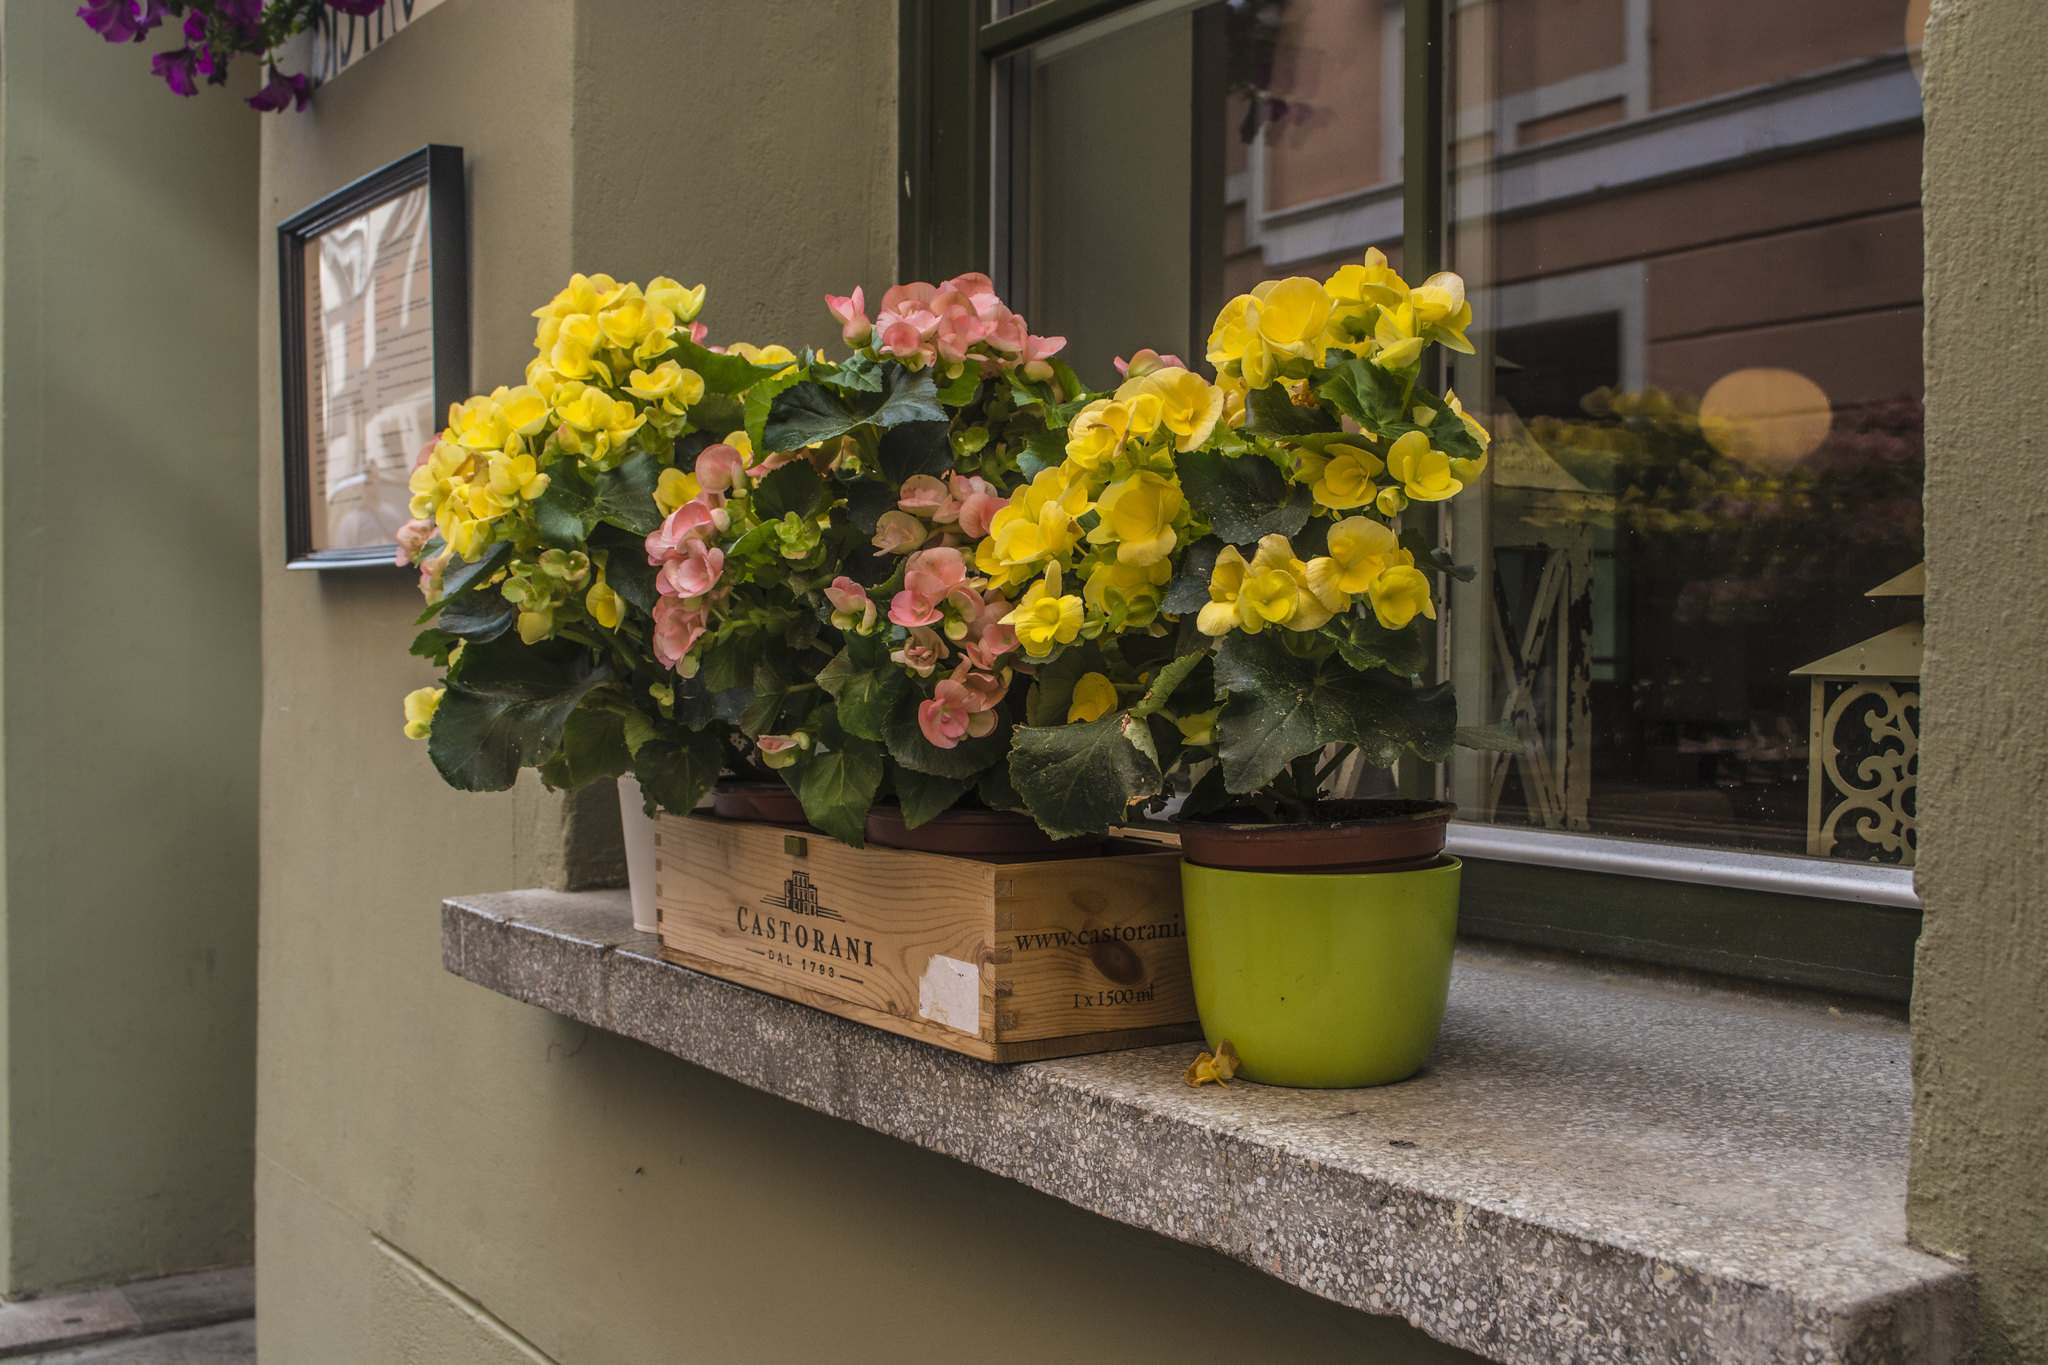potted plant: (1127, 267, 1536, 1092)
